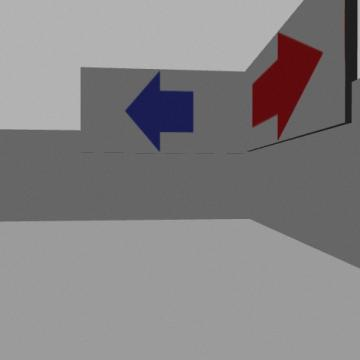blue_left: (126, 71, 193, 152)
red_right: (253, 33, 322, 140)
